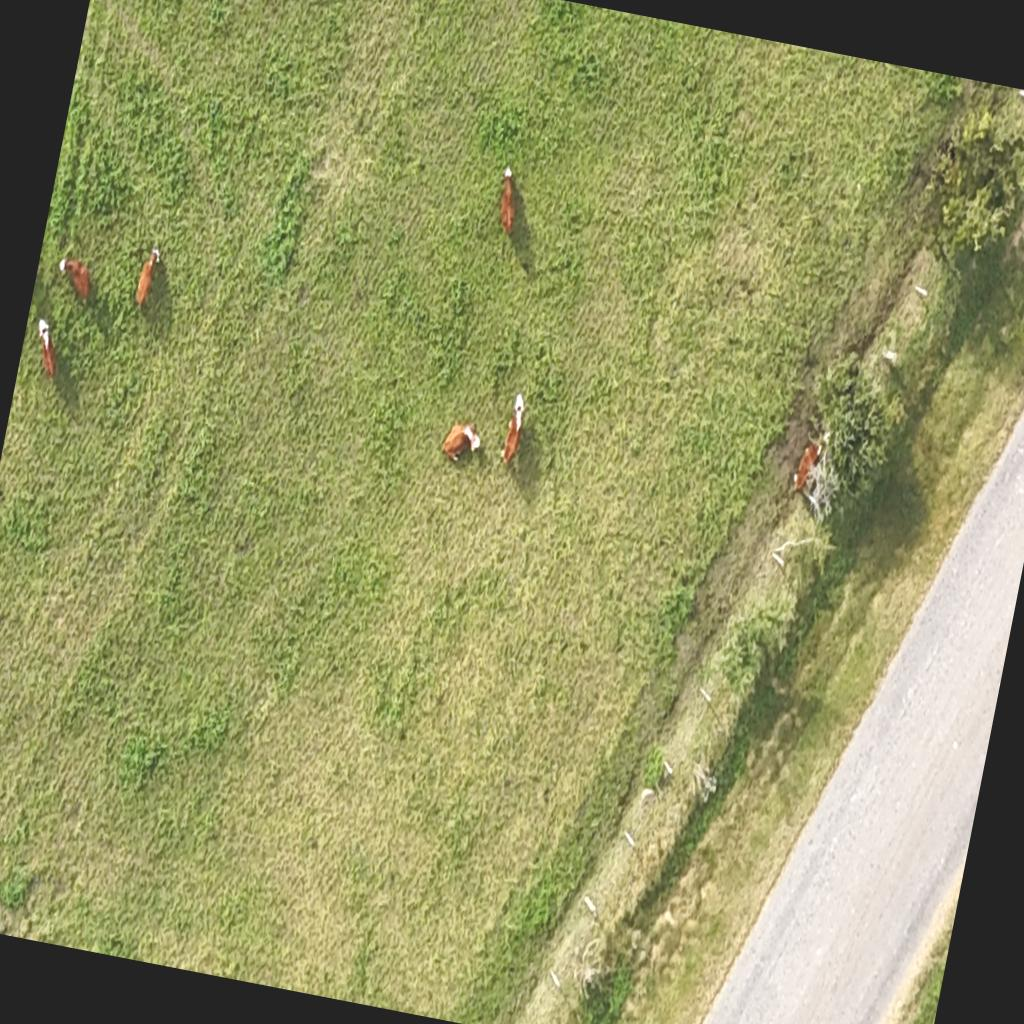cow: (126, 238, 168, 322), (52, 248, 100, 304), (791, 434, 829, 504), (27, 316, 66, 380), (500, 392, 530, 468), (442, 416, 487, 466), (492, 166, 524, 234)
